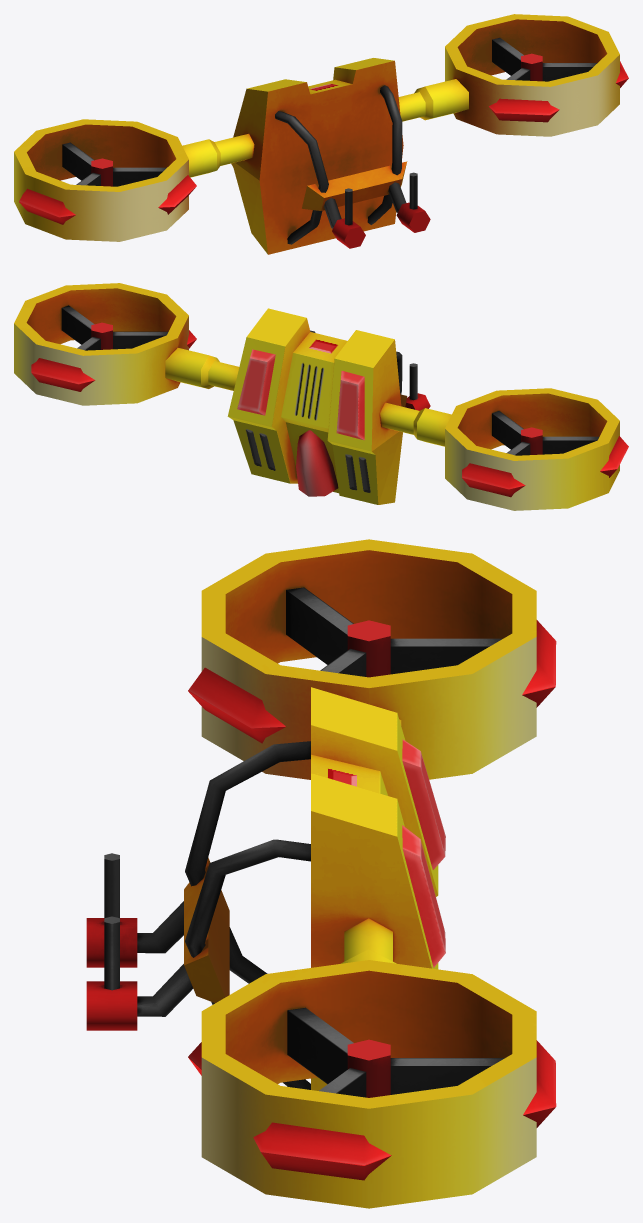
The model's file is Jetpack_Yellow.fbx.
3 views of the same model, one above another, from view 1: azimuth 30°, elevation 25°; view 2: azimuth 150°, elevation 25°; view 3: azimuth 270°, elevation 25° (orthographic). The views are drawn at different scales.
Parts seen in each view (by area): view 1: Jetpack_Yellow; view 2: Jetpack_Yellow; view 3: Jetpack_Yellow.
Boxes of the visible parts, x1,y1,x2,y2 form: Jetpack_Yellow: (14,14,628,254); Jetpack_Yellow: (14,283,628,510); Jetpack_Yellow: (86,539,556,1208).
Size of the model in its own units: 103 by 26.72 by 34.83.
